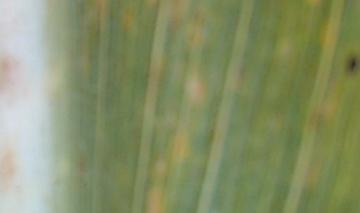tarspot: (348, 56, 357, 72)
